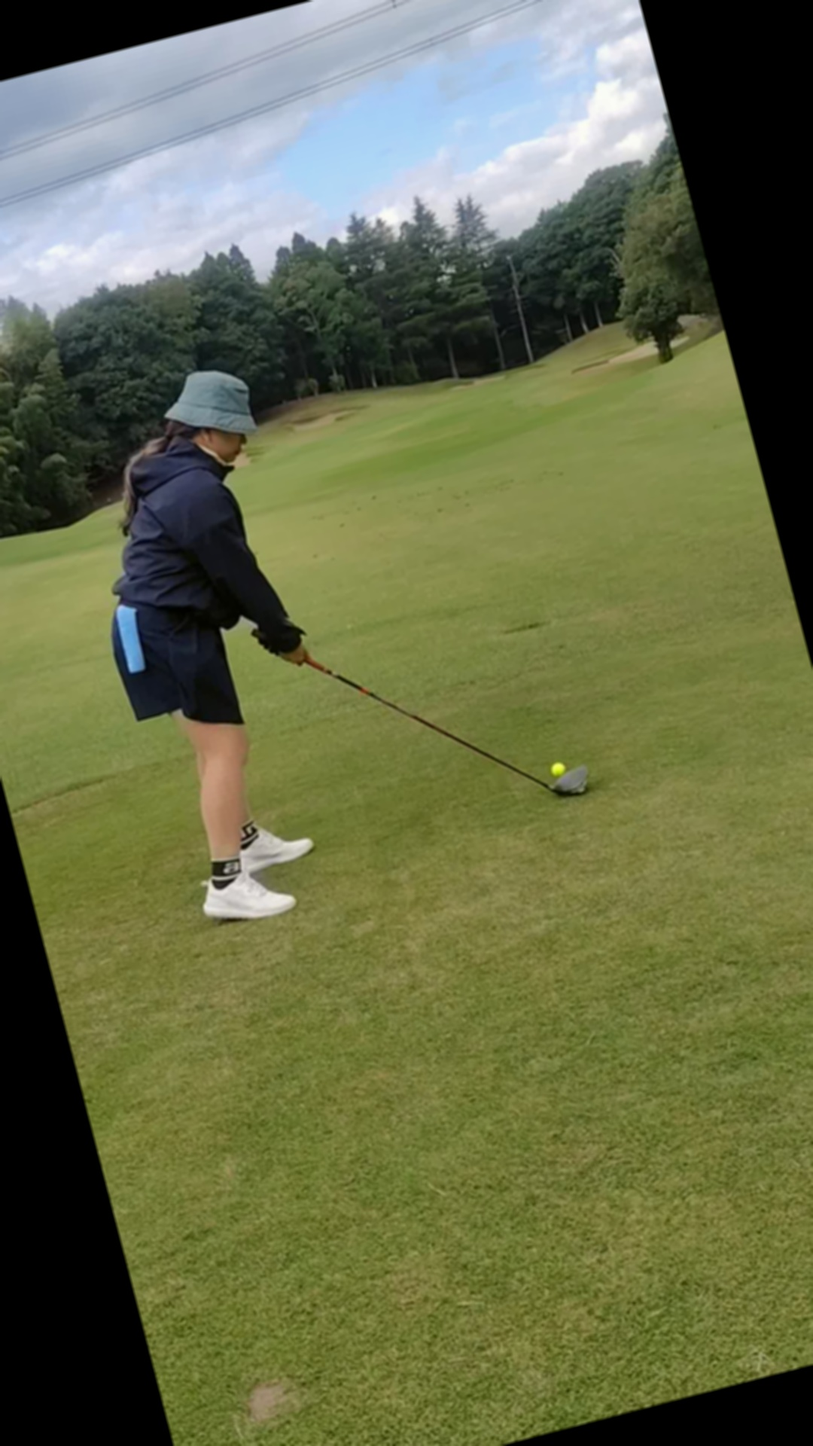clubhead: (461, 694, 704, 843)
